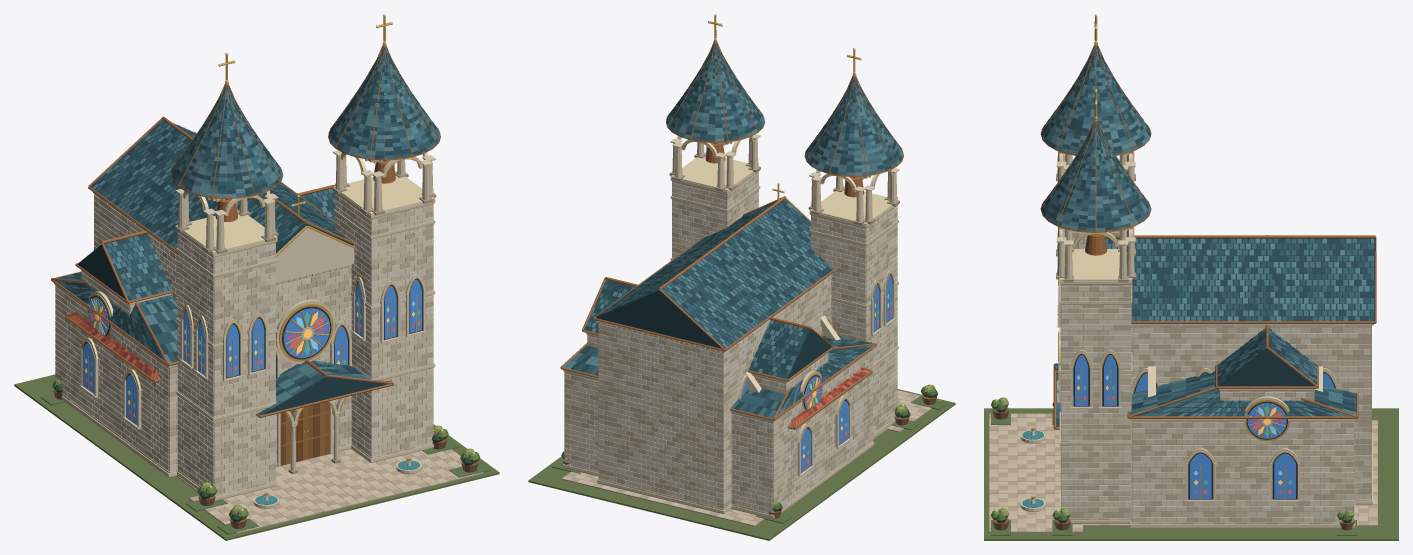
Rendered from church-nivel-7.glb.
3 renders of one model, left to right at view 1: azimuth 30°, elevation 25°; view 2: azimuth 150°, elevation 25°; view 3: azimuth 270°, elevation 25°, orthographic. The views are drawn at different scales.
Visible parts, largest first — view 1: Igreja 07 #e8dcc5, Igreja 07 #294952, Igreja 07 #ded1b9, Igreja 07 #eae1ce, Igreja 07 #cec1a8, Igreja 07 #e6d7ba, Igreja 07 #305762, Igreja 07 #a76e42, Igreja 07 #54818b, Igreja 07 #3b6472, Igreja 07 #46717c, Igreja 07 #406c9f (+13 smaller); view 2: Igreja 07 #294952, Igreja 07 #ded1b9, Igreja 07 #cec1a8, Igreja 07 #eae1ce, Igreja 07 #e8dcc5, Igreja 07 #e6d7ba, Igreja 07 #305762, Igreja 07 #54818b, Igreja 07 #3b6472, Igreja 07 #46717c, Igreja 07 #a76e42, Igreja 07 #6c7d4e (+9 smaller); view 3: Igreja 07 #294952, Igreja 07 #ded1b9, Igreja 07 #cec1a8, Igreja 07 #e8dcc5, Igreja 07 #eae1ce, Igreja 07 #e6d7ba, Igreja 07 #6c7d4e, Igreja 07 #54818b, Igreja 07 #305762, Igreja 07 #46717c, Igreja 07 #3b6472, Igreja 07 #b3a390 (+12 smaller).
Part boxes in pixels (box(x1,y1,x2,y2)): Igreja 07 #e8dcc5: box(55, 193, 433, 496); Igreja 07 #294952: box(56, 47, 436, 414); Igreja 07 #ded1b9: box(55, 159, 433, 488); Igreja 07 #eae1ce: box(55, 194, 433, 495); Igreja 07 #cec1a8: box(55, 193, 433, 494); Igreja 07 #e6d7ba: box(54, 150, 435, 508); Igreja 07 #305762: box(60, 49, 439, 415); Igreja 07 #a76e42: box(51, 46, 440, 446); Igreja 07 #54818b: box(55, 47, 440, 402); Igreja 07 #3b6472: box(63, 50, 438, 395); Igreja 07 #46717c: box(56, 47, 438, 408); Igreja 07 #406c9f: box(83, 279, 421, 424); Igreja 07 #294952: box(566, 43, 902, 416); Igreja 07 #ded1b9: box(564, 141, 897, 512); Igreja 07 #cec1a8: box(564, 172, 897, 511); Igreja 07 #eae1ce: box(564, 174, 897, 515); Igreja 07 #e8dcc5: box(564, 173, 897, 512); Igreja 07 #e6d7ba: box(563, 134, 899, 518); Igreja 07 #305762: box(575, 44, 900, 417); Igreja 07 #54818b: box(563, 44, 903, 416); Igreja 07 #3b6472: box(588, 43, 899, 413); Igreja 07 #46717c: box(571, 43, 900, 418); Igreja 07 #a76e42: box(560, 42, 903, 429); Igreja 07 #6c7d4e: box(528, 389, 955, 540); Igreja 07 #294952: box(1041, 46, 1375, 426); Igreja 07 #ded1b9: box(1058, 151, 1373, 524); Igreja 07 #cec1a8: box(1060, 232, 1371, 524); Igreja 07 #e8dcc5: box(1060, 230, 1371, 524); Igreja 07 #eae1ce: box(1060, 230, 1371, 524); Igreja 07 #e6d7ba: box(1020, 151, 1372, 527); Igreja 07 #6c7d4e: box(984, 408, 1398, 540); Igreja 07 #54818b: box(1045, 49, 1373, 416); Igreja 07 #305762: box(1041, 47, 1373, 416); Igreja 07 #46717c: box(1043, 46, 1373, 416); Igreja 07 #3b6472: box(1042, 46, 1373, 418); Igreja 07 #b3a390: box(1061, 232, 1371, 523).
Bounding box in the file's own units: 17.75 × 26.8 × 23.77.
